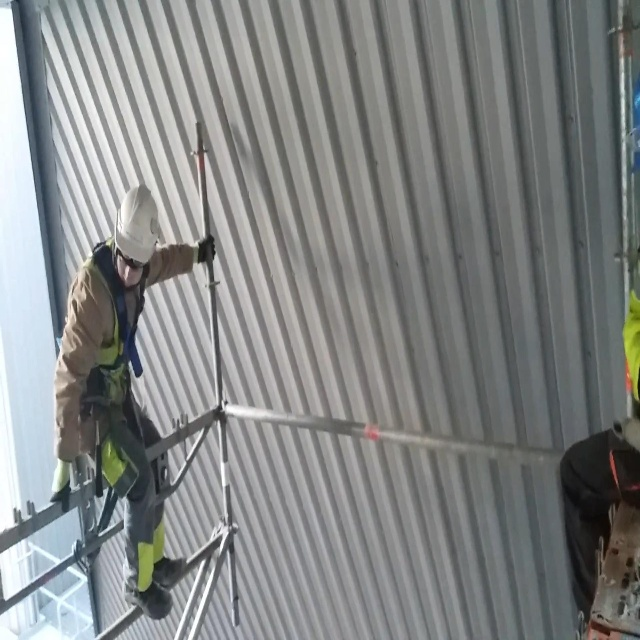Arnes_seguridad: (63, 233, 146, 463)
